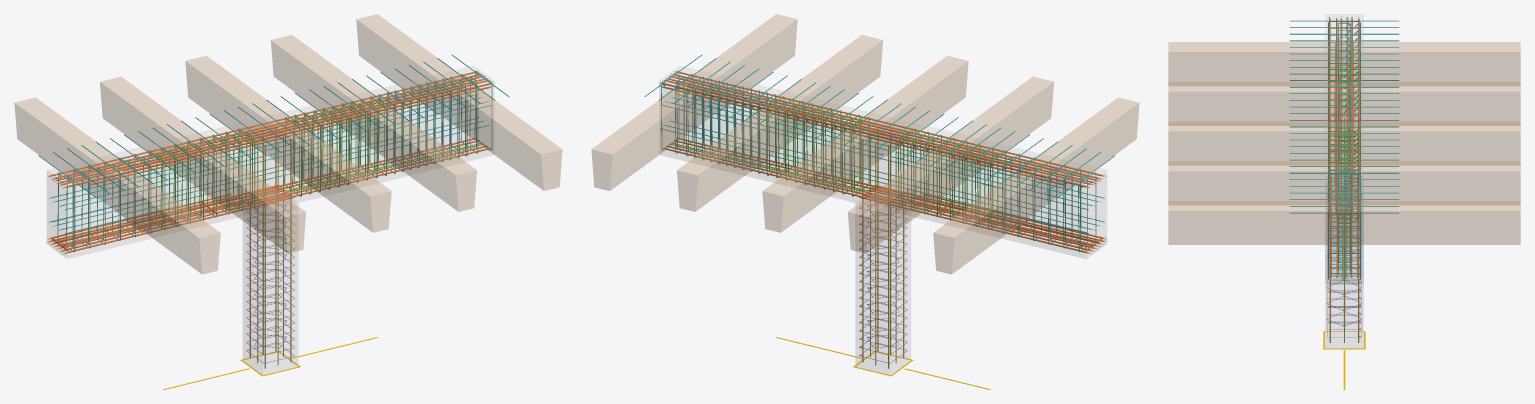
The model's file is unterzug-441-vorort13-ft.glb.
The picture shows the model from 3 angles, left to right: view 1: azimuth 30°, elevation 25°; view 2: azimuth 150°, elevation 25°; view 3: azimuth 270°, elevation 25°; orthographic projection. The views are drawn at different scales.
Parts seen in each view (by area): view 1: Beton, Fertigteiltraeger_1, Fertigteiltraeger_3, Fertigteiltraeger_2, Fertigteiltraeger_5, Fertigteiltraeger_4, Pos_22_4, Pos_23_4, Pos_22_3, Pos_23_3, Pos_24_2, Pos_24_1 (+4 smaller); view 2: Beton, Fertigteiltraeger_1, Fertigteiltraeger_3, Fertigteiltraeger_2, Fertigteiltraeger_5, Fertigteiltraeger_4, Pos_22_3, Pos_23_3, Pos_22_4, Pos_24_1, Pos_23_4, Pos_24_2 (+4 smaller); view 3: Fertigteiltraeger_5, Fertigteiltraeger_2, Fertigteiltraeger_1, Fertigteiltraeger_3, Fertigteiltraeger_4, Beton, Pos_24_2, Pos_24_1, Pos_22_3, Pos_22_4, Pos_23_3, Pos_23_4.
Boxes of the visible parts, box(x1,y1,x2,y2) form: Beton: box(47, 66, 493, 374); Fertigteiltraeger_1: box(14, 97, 220, 274); Fertigteiltraeger_3: box(185, 56, 391, 232); Fertigteiltraeger_2: box(100, 77, 305, 253); Fertigteiltraeger_5: box(356, 14, 562, 190); Fertigteiltraeger_4: box(271, 35, 476, 211); Pos_22_4: box(62, 82, 493, 188); Pos_23_4: box(59, 79, 490, 185); Pos_22_3: box(48, 71, 478, 177); Pos_23_3: box(50, 73, 482, 179); Pos_24_2: box(56, 77, 488, 183); Pos_24_1: box(53, 75, 485, 181); Beton: box(660, 66, 1106, 374); Fertigteiltraeger_1: box(933, 97, 1139, 274); Fertigteiltraeger_3: box(762, 56, 968, 232); Fertigteiltraeger_2: box(848, 77, 1053, 253); Fertigteiltraeger_5: box(591, 14, 797, 190); Fertigteiltraeger_4: box(677, 35, 882, 211); Pos_22_3: box(659, 82, 1090, 187); Pos_23_3: box(662, 79, 1094, 185); Pos_22_4: box(673, 71, 1107, 176); Pos_24_1: box(665, 78, 1097, 183); Pos_23_4: box(670, 73, 1102, 179); Pos_24_2: box(669, 75, 1100, 181); Fertigteiltraeger_5: box(1168, 201, 1520, 244); Fertigteiltraeger_2: box(1168, 82, 1520, 125); Fertigteiltraeger_1: box(1168, 42, 1520, 85); Fertigteiltraeger_3: box(1168, 122, 1520, 165); Fertigteiltraeger_4: box(1168, 161, 1520, 204); Beton: box(1325, 14, 1363, 347); Pos_24_2: box(1340, 16, 1342, 216); Pos_24_1: box(1346, 17, 1348, 217); Pos_22_3: box(1358, 16, 1359, 217); Pos_22_4: box(1329, 17, 1330, 217); Pos_23_3: box(1351, 16, 1352, 217); Pos_23_4: box(1336, 18, 1337, 217).
Bounding box in the file's own units: 6.11 × 3.2 × 4.5.
